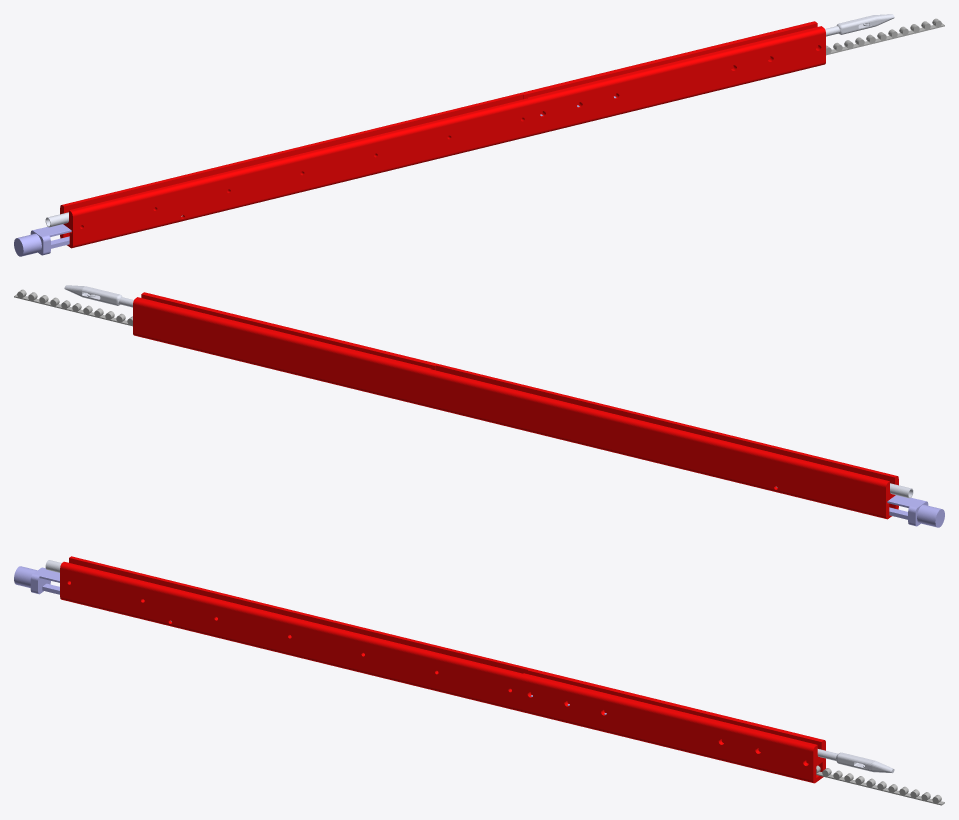
The model's file is microkiap v4 (rest position) (HEAD ONLY, JAW CLOSED).fbx.
3 renders of one model, top to bottom at view 1: azimuth 30°, elevation 25°; view 2: azimuth 150°, elevation 25°; view 3: azimuth 330°, elevation 25°, orthographic.
Parts seen in each view (by area): view 1: imagetostl_mesh2, imagetostl_mesh4, imagetostl_mesh1, imagetostl_mesh3; view 2: imagetostl_mesh2, imagetostl_mesh4, imagetostl_mesh1, imagetostl_mesh0; view 3: imagetostl_mesh2, imagetostl_mesh4, imagetostl_mesh1, imagetostl_mesh3.
Boxes of the visible parts, x1=… form: imagetostl_mesh2: x1=60, y1=21, x2=825, y2=248; imagetostl_mesh4: x1=14, y1=96, x2=616, y2=256; imagetostl_mesh1: x1=45, y1=14, x2=894, y2=227; imagetostl_mesh3: x1=826, y1=21, x2=944, y2=55; imagetostl_mesh2: x1=133, y1=292, x2=898, y2=519; imagetostl_mesh4: x1=887, y1=495, x2=944, y2=527; imagetostl_mesh1: x1=64, y1=285, x2=913, y2=498; imagetostl_mesh0: x1=14, y1=289, x2=132, y2=326; imagetostl_mesh2: x1=60, y1=556, x2=825, y2=783; imagetostl_mesh4: x1=14, y1=566, x2=606, y2=714; imagetostl_mesh1: x1=45, y1=560, x2=894, y2=773; imagetostl_mesh3: x1=816, y1=765, x2=941, y2=805.
Size of the model in its own units: 25170 by 1050 by 600.
